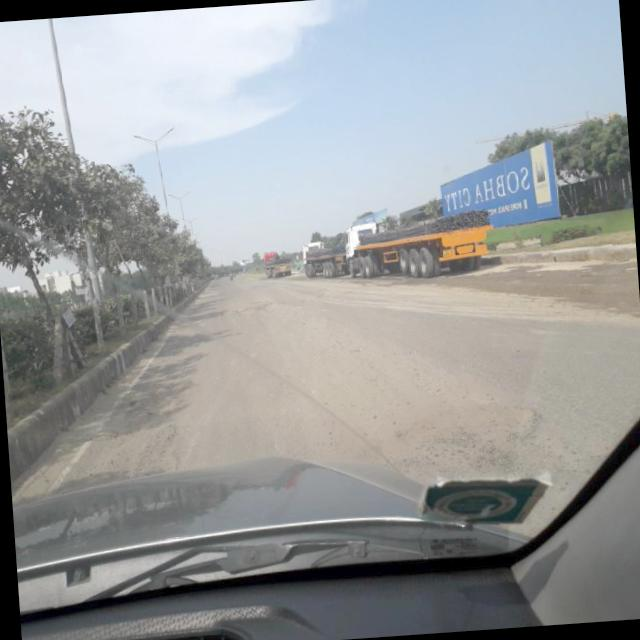pothole: (386, 380, 554, 466), (57, 402, 187, 478), (224, 279, 295, 325)
